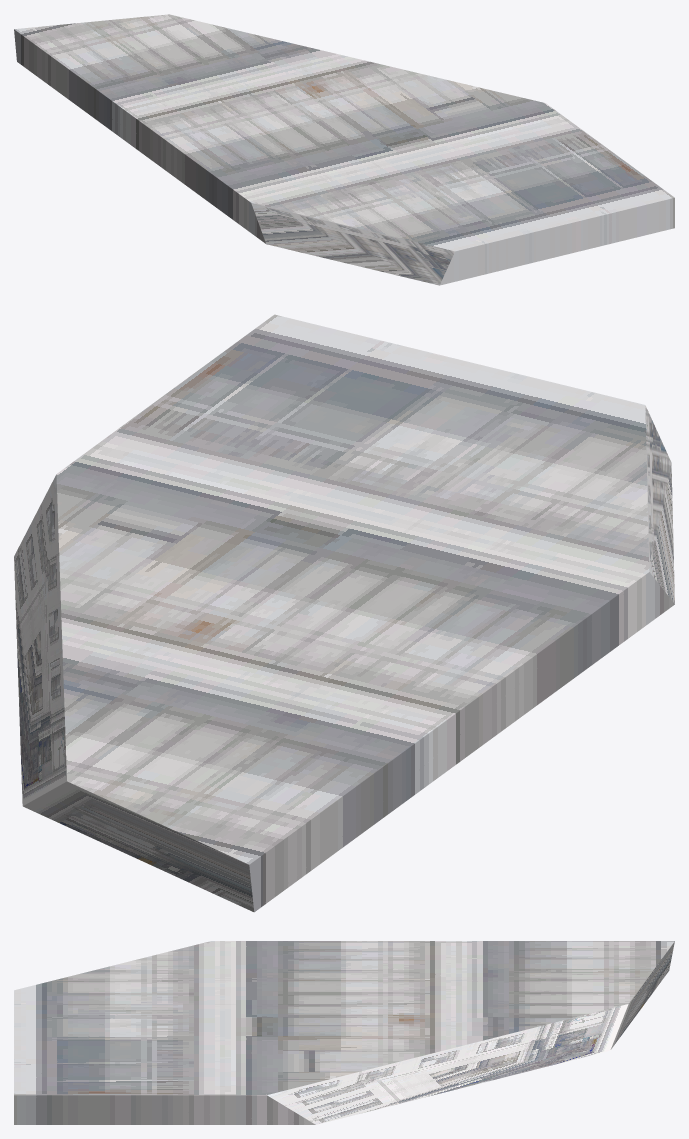
File: 021_highriserWall_cell_006.gltf
3 renders of one model, top to bottom at view 1: azimuth 30°, elevation 25°; view 2: azimuth 150°, elevation 25°; view 3: azimuth 270°, elevation 25°, orthographic. The views are drawn at different scales.
Visible parts, largest first — view 1: highriserWall_cell_006; view 2: highriserWall_cell_006; view 3: highriserWall_cell_006.
Boxes of the visible parts, left/top/right/bottom form: highriserWall_cell_006: left=14, top=14, right=674, bottom=285; highriserWall_cell_006: left=14, top=314, right=674, bottom=912; highriserWall_cell_006: left=14, top=941, right=674, bottom=1124.
Size of the model in its own units: 4.09 by 0.3682 by 7.42.
Materials: 1 (1 with a texture image).
